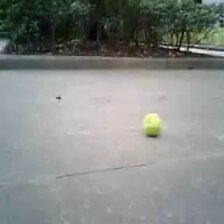tennis: (144, 114, 160, 136)
